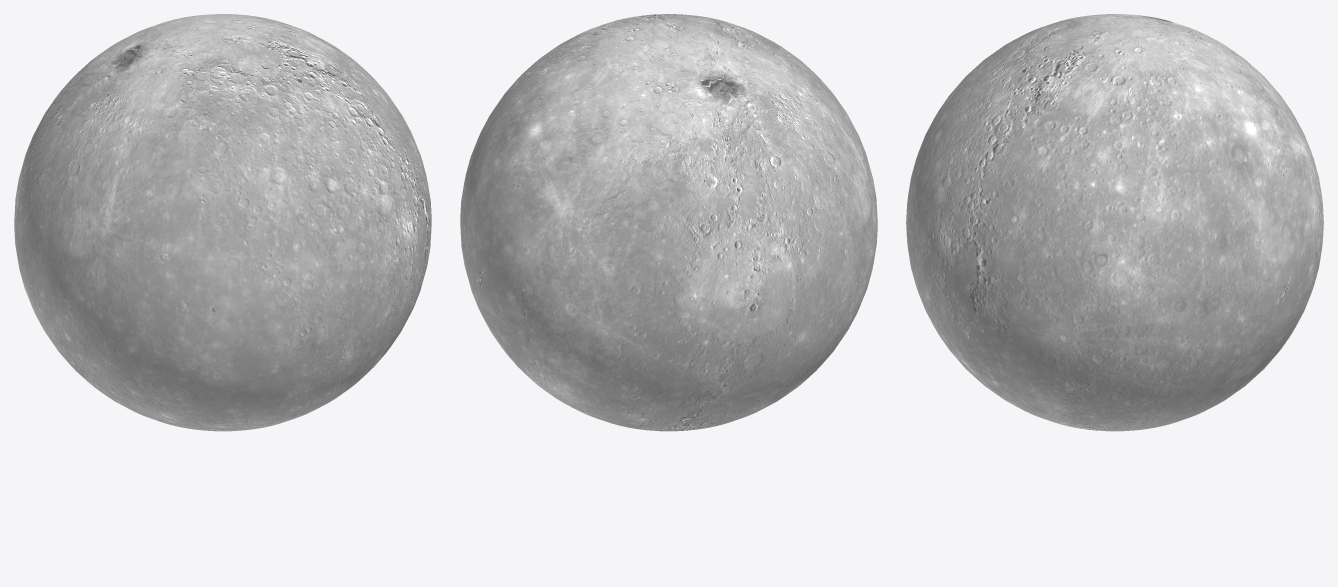
Rendered from Mercury.glb.
3 views of the same model, side by side, from view 1: azimuth 30°, elevation 25°; view 2: azimuth 150°, elevation 25°; view 3: azimuth 270°, elevation 25° (orthographic).
Parts seen in each view (by area): view 1: Mercury.002; view 2: Mercury.002; view 3: Mercury.002.
Part boxes in pixels (x1=…): Mercury.002: x1=14, y1=14, x2=431, y2=431; Mercury.002: x1=460, y1=14, x2=877, y2=431; Mercury.002: x1=906, y1=14, x2=1323, y2=431.
Size of the model in its own units: 1.59 by 2.26 by 1.59.
1 material, 1 textured.
